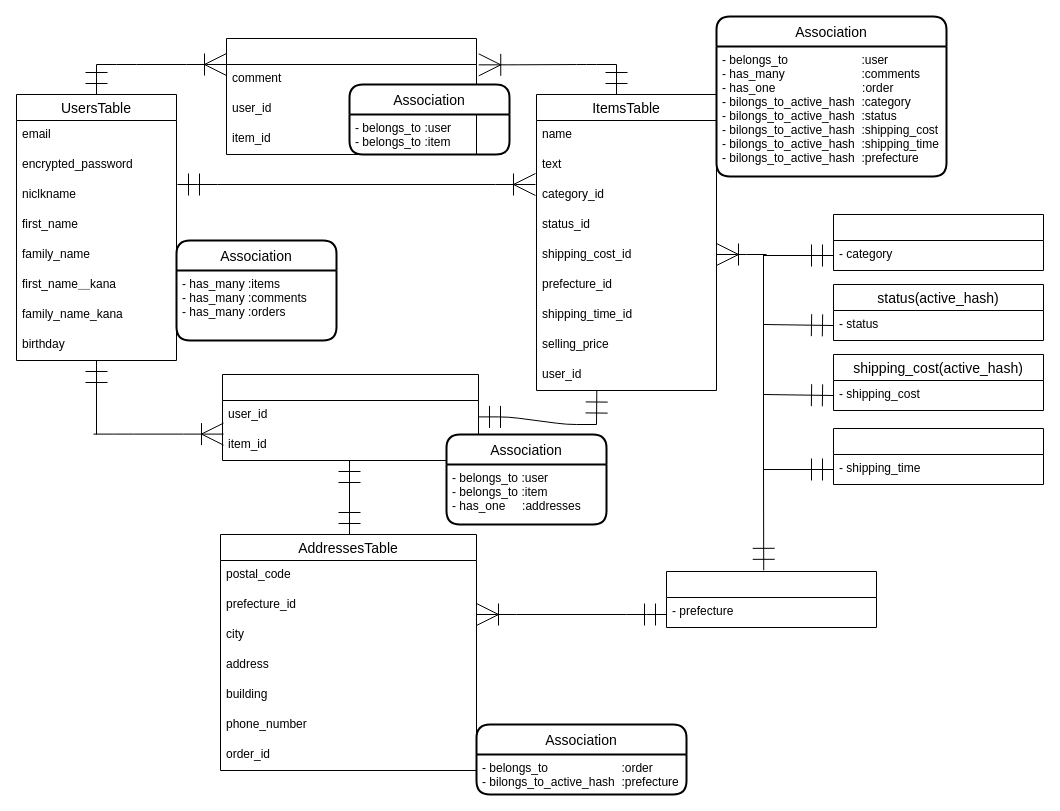
The diagram is 1060 pixels wide and 811 high, and some of its shapes have lost their labels. The shapes that lost their labels are listed below. From the top down, each one's box as (x1, y1, x2, y2) in pixels, then its label:
(226, 38, 476, 154): CommentsTable
(832, 214, 1044, 270): category(active_hash)
(222, 374, 478, 460): OdersTable
(832, 428, 1044, 484): shipping_time(active_hash)
(666, 570, 876, 628): prefecture(active_hash)
